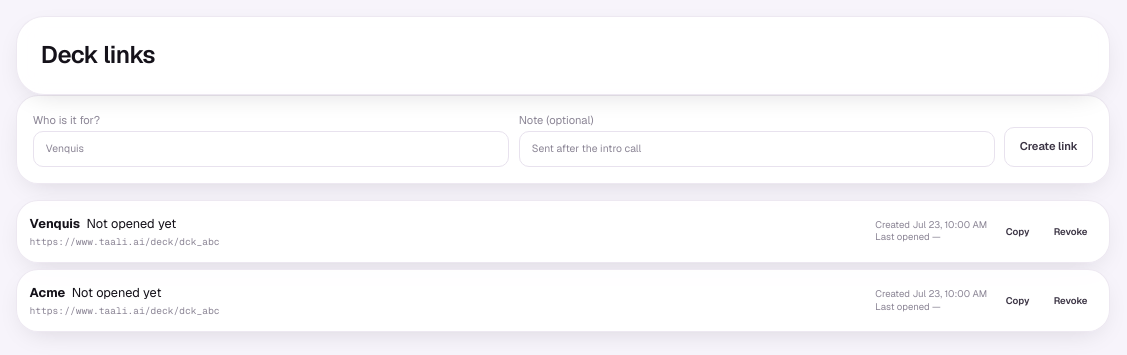
Test case: DeckLinksPage › revokes only after confirming, and marks just that row
Expected: the text "Venquis" is shown, [30,214,80,233]
Click the button "Revoke" in the row of "Venquis".
click(1071, 231)  # box [1045,217,1096,245]
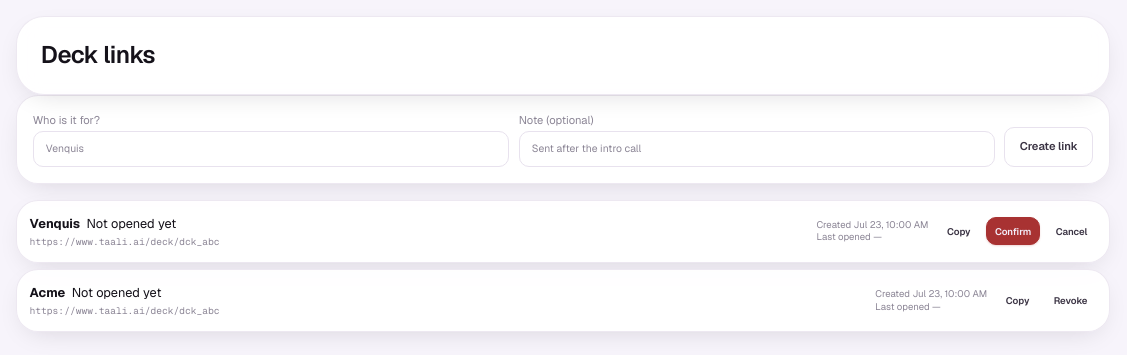
Click the button "Confirm".
click(1013, 231)  # box [986,217,1040,245]
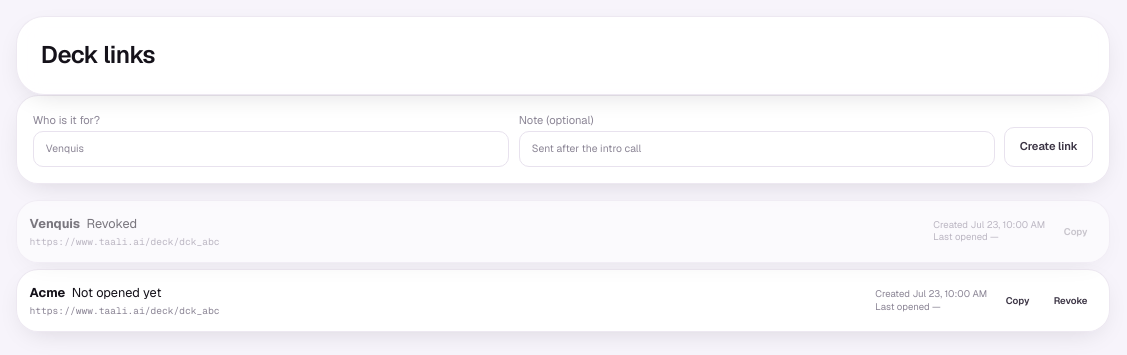
Expected: the text "Acme" is shown, [30,283,65,302]
Expected: the text "Revoked" is shown, [86,214,137,233]
